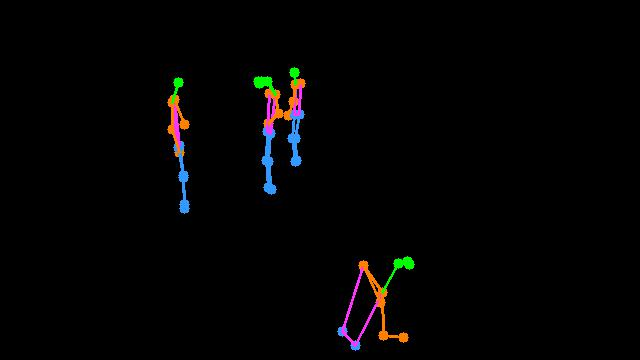normal: (241, 51, 325, 214)
